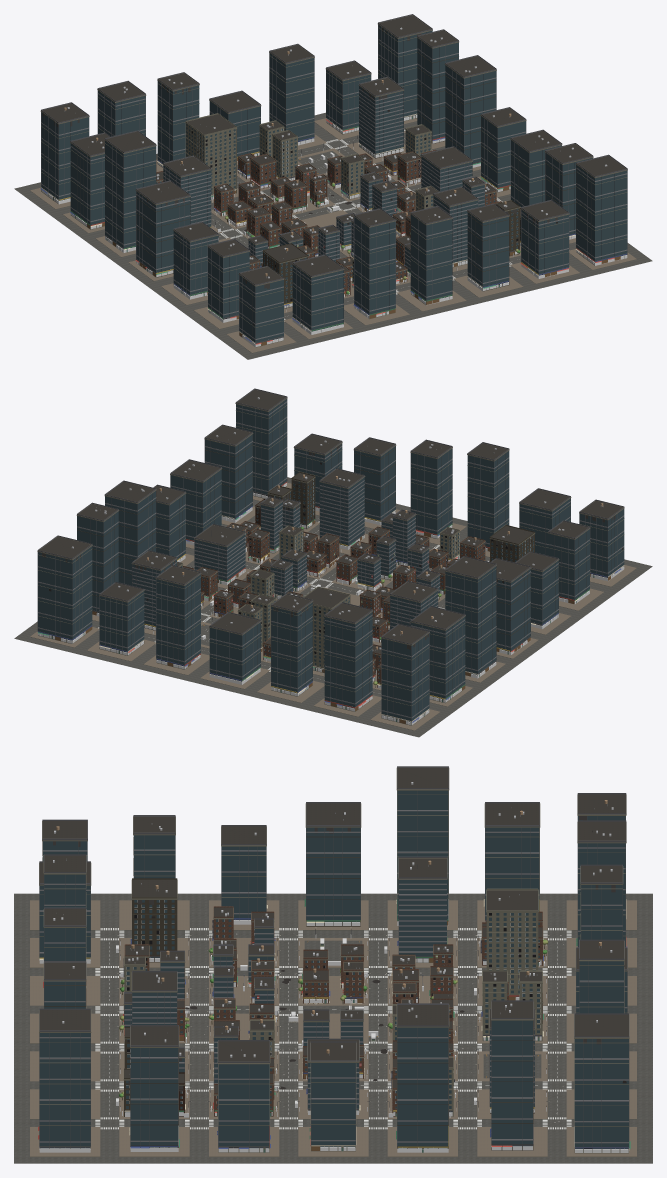
The model's file is map_evac.glb.
3 views of the same model, one above another, from view 1: azimuth 30°, elevation 25°; view 2: azimuth 150°, elevation 25°; view 3: azimuth 270°, elevation 25° (orthographic). The views are drawn at different scales.
Visible parts, largest first — view 1: Ground_road, Ground_sidewalk, Ring_168_168, Ring_-168_-56, Ring_-56_168, Ring_168_-56, Ring_-168_0, Ring_56_-168, Ring_0_168, Ring_-112_168, Ring_56_168, Ring_-168_-168 (+33 smaller); view 2: Ground_road, Ground_sidewalk, Ring_168_-168, Ring_-112_-168, Ring_-168_-56, Ring_-168_-168, Ring_56_-168, Ring_168_168, Ring_-56_-168, Ring_-56_168, Ring_0_168, Ring_-168_-112 (+36 smaller); view 3: Ground_road, Ground_sidewalk, Ring_168_-168, Ring_168_-56, Ring_168_168, Ground_markings, Ring_-168_0, Ring_168_-112, Ring_168_112, Ring_168_56, Ring_168_0, Ring_-168_-56 (+31 smaller).
Boxes of the visible parts, box(x1,y1,x2,y2) form: Ground_road: box(14, 112, 652, 359); Ground_sidewalk: box(30, 118, 636, 352); Ring_168_168: box(575, 154, 627, 265); Ring_-168_-56: box(104, 130, 156, 252); Ring_-56_168: box(353, 208, 396, 319); Ring_168_-56: box(444, 55, 496, 166); Ring_-168_0: box(135, 180, 190, 277); Ring_56_-168: box(269, 43, 314, 144); Ring_0_168: box(410, 206, 452, 304); Ring_-112_168: box(292, 254, 344, 332); Ring_56_168: box(467, 203, 509, 291); Ring_-168_-168: box(40, 102, 89, 203); Ground_road: box(14, 477, 652, 737); Ground_sidewalk: box(30, 482, 636, 730); Ring_168_-168: box(37, 535, 92, 643); Ring_-112_-168: box(324, 602, 372, 711); Ring_-168_-56: box(445, 556, 496, 677); Ring_-168_-168: box(381, 623, 429, 725); Ring_56_-168: box(155, 565, 201, 669); Ring_168_168: box(235, 388, 287, 498); Ring_-56_-168: box(270, 593, 313, 696); Ring_-56_168: box(467, 442, 509, 551); Ring_0_168: box(410, 439, 452, 538); Ring_-168_-112: box(410, 606, 465, 703); Ground_road: box(14, 893, 652, 1163); Ground_sidewalk: box(30, 900, 636, 1156); Ring_168_-168: box(574, 1013, 630, 1153); Ring_168_-56: box(396, 1003, 449, 1152); Ring_168_168: box(38, 1008, 91, 1151); Ground_markings: box(95, 928, 571, 1129); Ring_-168_0: box(304, 802, 361, 926); Ring_168_-112: box(490, 1000, 533, 1150); Ring_168_112: box(129, 1025, 179, 1151); Ring_168_56: box(217, 1040, 270, 1152); Ring_168_0: box(309, 1041, 356, 1151); Ring_-168_-56: box(396, 766, 449, 925).
Bounding box in the file's own units: 400 × 95.7 × 400.
63 materials, 9 textured.
